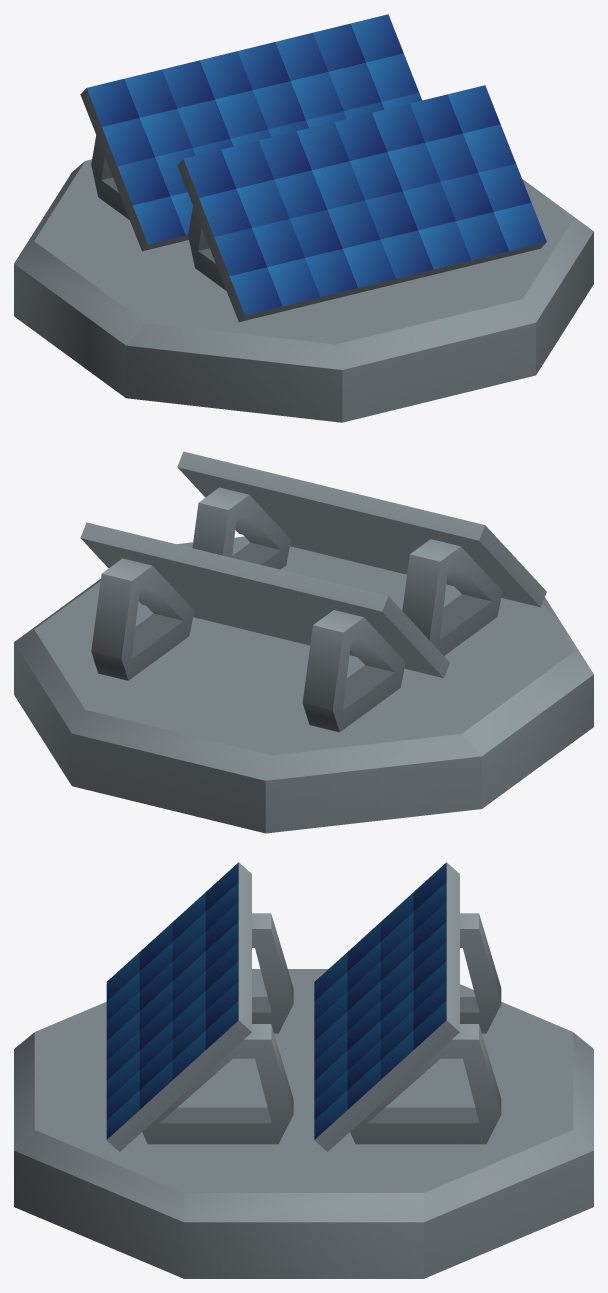
File: kaykit_roofmodule_solarpanels.glb
3 renders of one model, top to bottom at view 1: azimuth 30°, elevation 25°; view 2: azimuth 150°, elevation 25°; view 3: azimuth 270°, elevation 25°, orthographic. The views are drawn at different scales.
Visible parts, largest first — view 1: roofmodule_solarpanels; view 2: roofmodule_solarpanels; view 3: roofmodule_solarpanels.
Boxes of the visible parts, x1=… form: roofmodule_solarpanels: x1=14, y1=14, x2=593, y2=422; roofmodule_solarpanels: x1=14, y1=451, x2=593, y2=833; roofmodule_solarpanels: x1=14, y1=862, x2=593, y2=1278.
Bounding box in the file's own units: 1.4 × 0.5709 × 1.4.
1 material, 1 textured.
